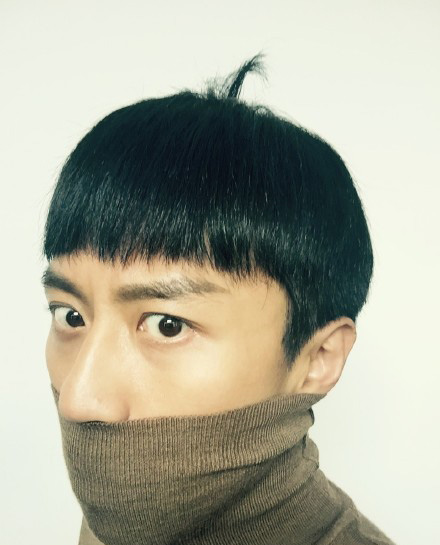face: (44, 263, 269, 544)
